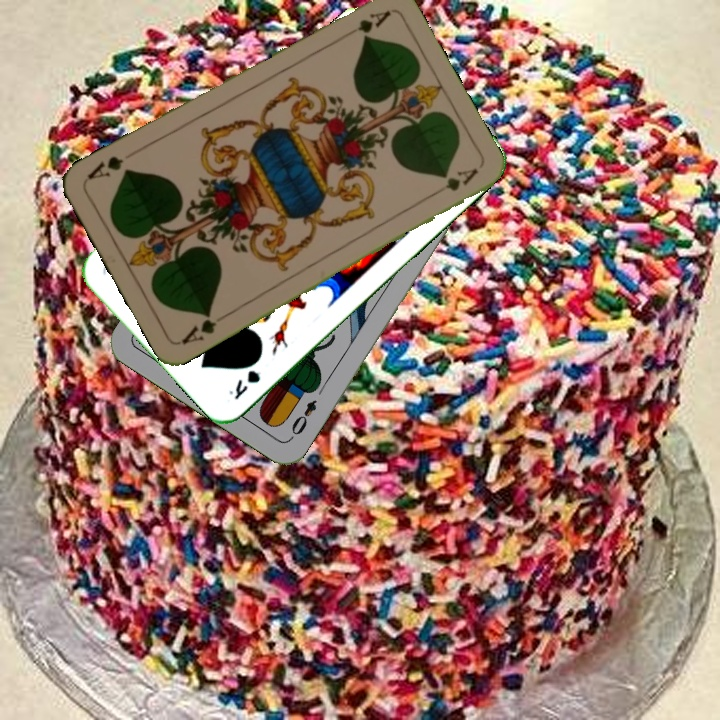EO: (286, 395, 320, 442)
GA: (337, 6, 393, 42), (177, 308, 219, 347)
GK: (225, 365, 263, 403)
